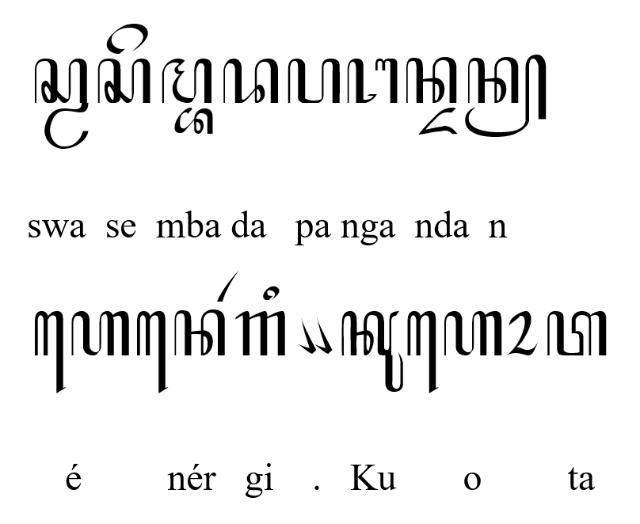-n: (464, 54, 546, 138)
Ku: (341, 311, 404, 393)
_b: (174, 107, 214, 135)
_d: (418, 107, 458, 135)
_r1: (216, 270, 240, 302)
d: (222, 58, 280, 104)
e: (106, 22, 148, 54)
e1: (34, 310, 66, 394), (136, 310, 168, 394), (408, 310, 438, 394)
g: (234, 310, 286, 356)
h: (70, 311, 130, 357), (443, 311, 502, 357)
i: (264, 286, 280, 302)
kom: (298, 316, 316, 354), (314, 316, 332, 354)
m: (162, 58, 212, 104)
n: (174, 309, 226, 357), (407, 56, 458, 104)
nga: (346, 58, 399, 104)
o: (506, 309, 538, 355)
p: (288, 58, 340, 104)
s: (97, 58, 151, 104)
sw: (34, 58, 88, 150)
t: (546, 311, 606, 357)
